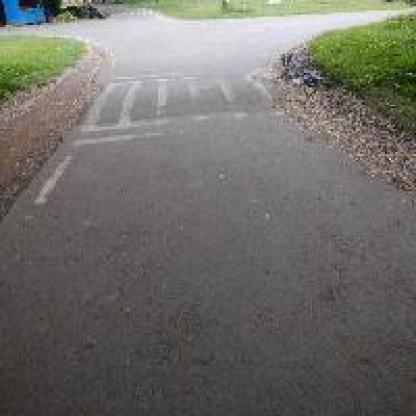Speed Bump: (69, 64, 285, 148)
